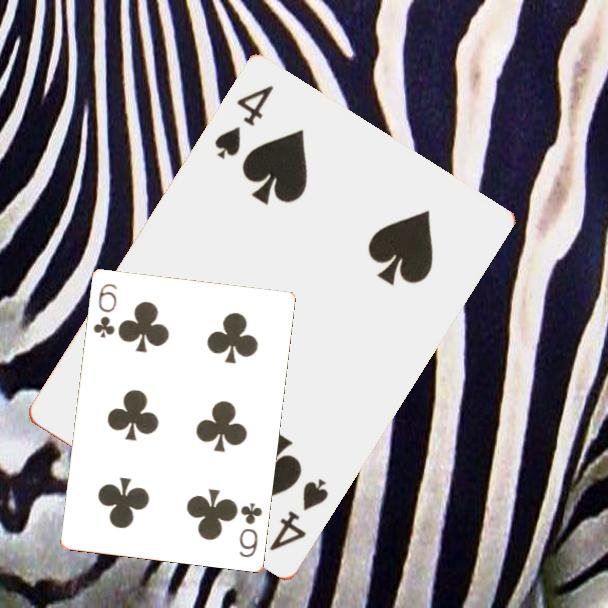c06: (90, 279, 120, 340), (235, 499, 265, 560)
s04: (211, 82, 277, 163), (266, 475, 332, 555)
